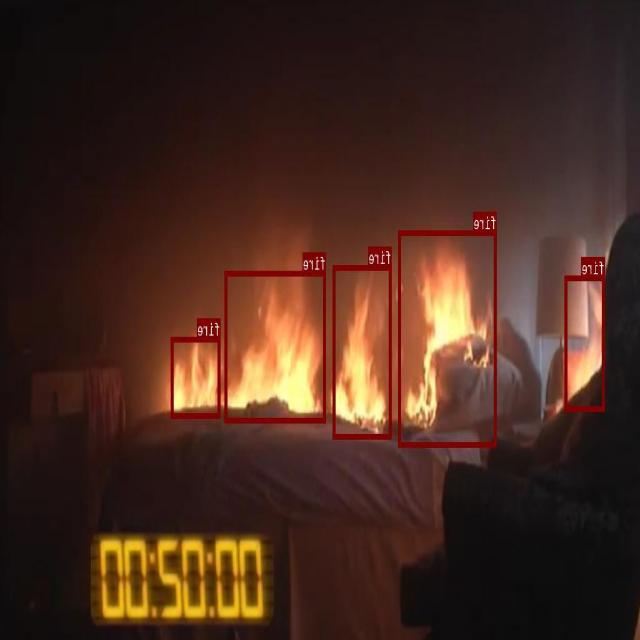fire: (399, 229, 498, 446), (226, 270, 326, 421), (333, 264, 392, 438), (566, 274, 606, 410), (172, 336, 220, 418)
